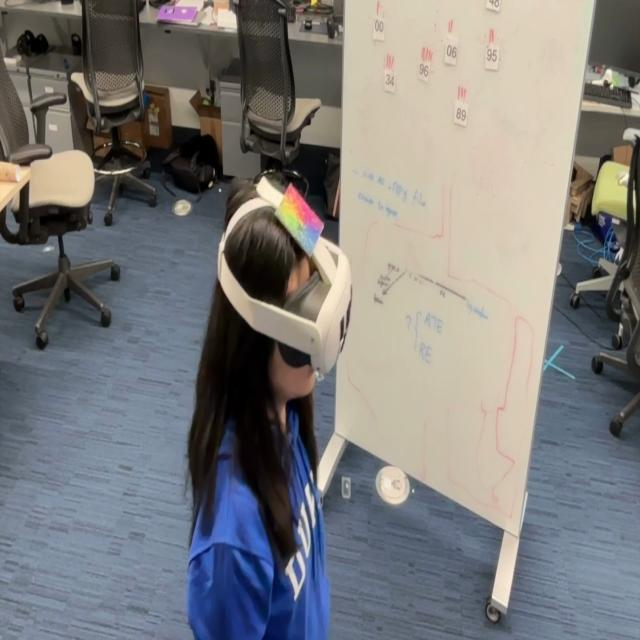Headset: (216, 173, 352, 380)
Marker: (282, 181, 326, 264)
